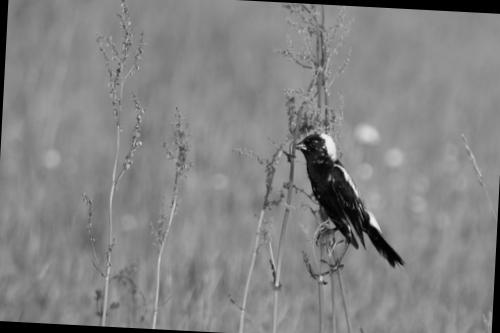bird: (280, 126, 413, 289)
